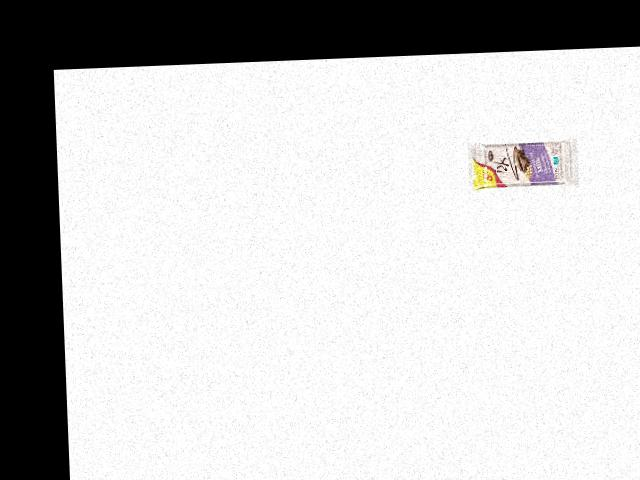chocolate: (464, 133, 580, 194)
